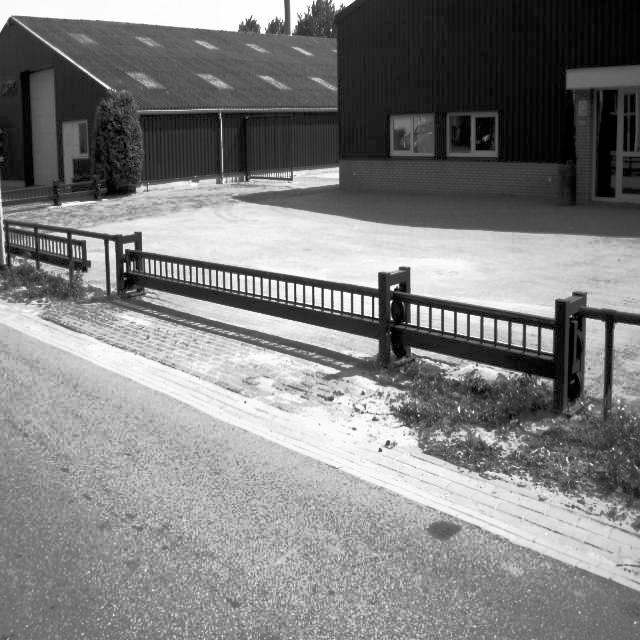fences: (136, 253, 580, 371)
